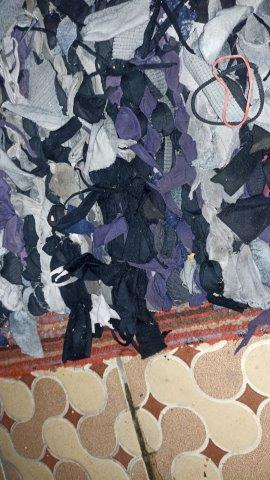karet: (191, 55, 264, 129)
